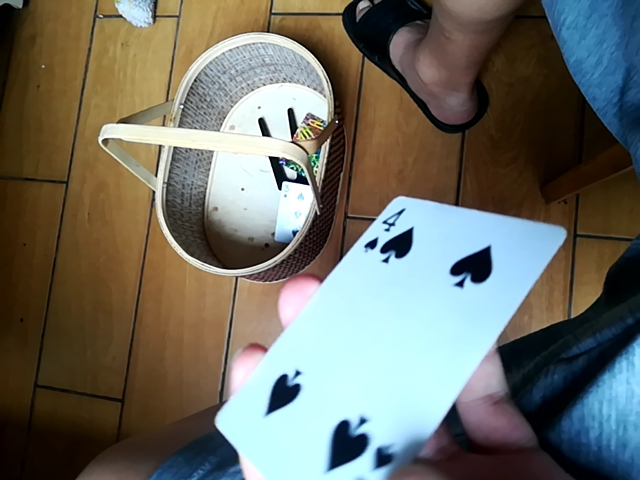ht 4: (219, 190, 575, 475)
